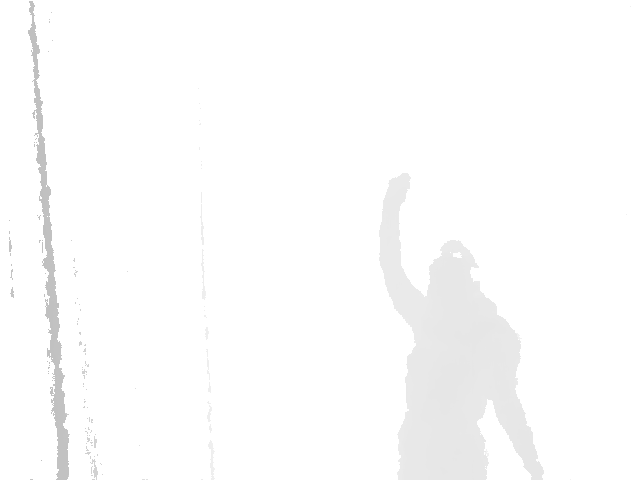hand: (379, 174, 413, 208)
head: (427, 239, 485, 317)
person: (378, 172, 545, 480)
